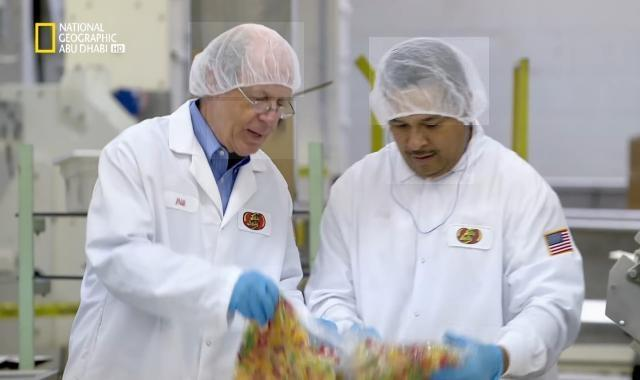apron: (435, 327, 523, 380), (220, 265, 289, 332)
gloves: (370, 37, 490, 125), (188, 22, 304, 97)
no_hairnet: (386, 126, 474, 185), (208, 102, 296, 160)
